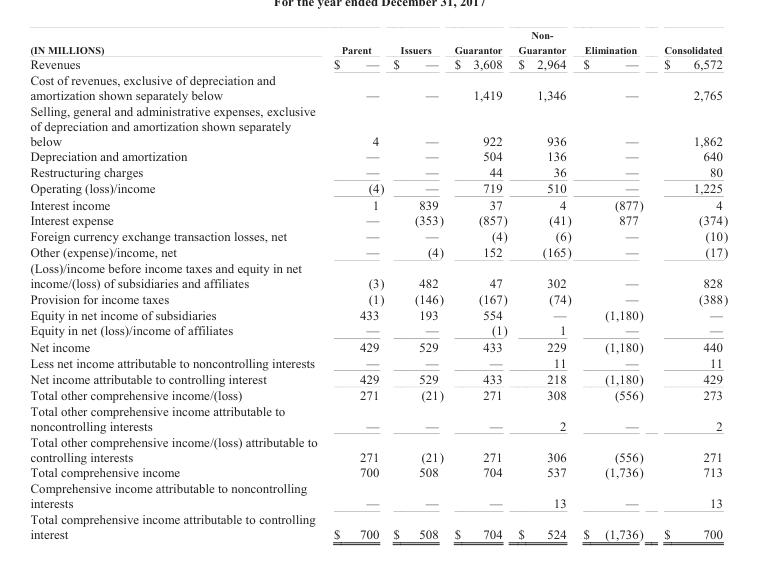table: (29, 29, 727, 540)
table column: (29, 29, 324, 540), (576, 29, 653, 540), (653, 29, 727, 540), (324, 29, 388, 540), (448, 29, 512, 540), (512, 29, 576, 540), (388, 29, 448, 540)
table column header: (29, 29, 727, 55)
table row: (29, 102, 727, 148), (29, 71, 727, 102), (29, 259, 727, 290), (29, 402, 727, 433), (29, 433, 727, 464), (29, 479, 727, 510), (29, 510, 727, 540), (29, 29, 727, 55), (29, 55, 727, 71), (29, 148, 727, 164), (29, 164, 727, 180), (29, 180, 727, 196), (29, 196, 727, 212), (29, 227, 727, 243), (29, 243, 727, 259), (29, 290, 727, 306), (29, 306, 727, 322), (29, 322, 727, 338), (29, 338, 727, 354), (29, 354, 727, 370), (29, 370, 727, 386), (29, 386, 727, 402), (29, 212, 727, 227), (29, 464, 727, 479)
